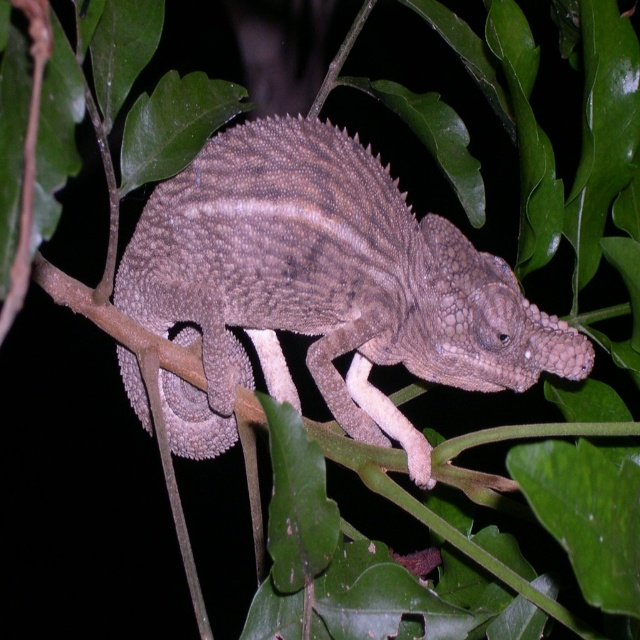Lizard: (113, 113, 592, 489)
